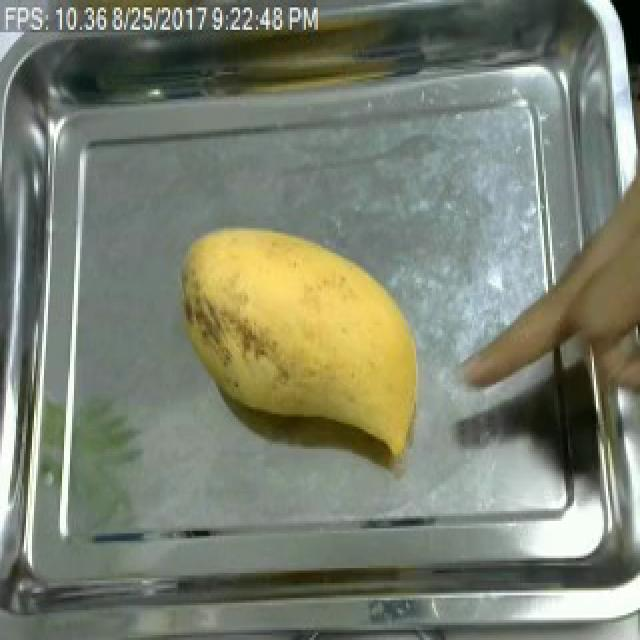fruit: (168, 208, 440, 439), (458, 136, 640, 410), (560, 136, 640, 417)
